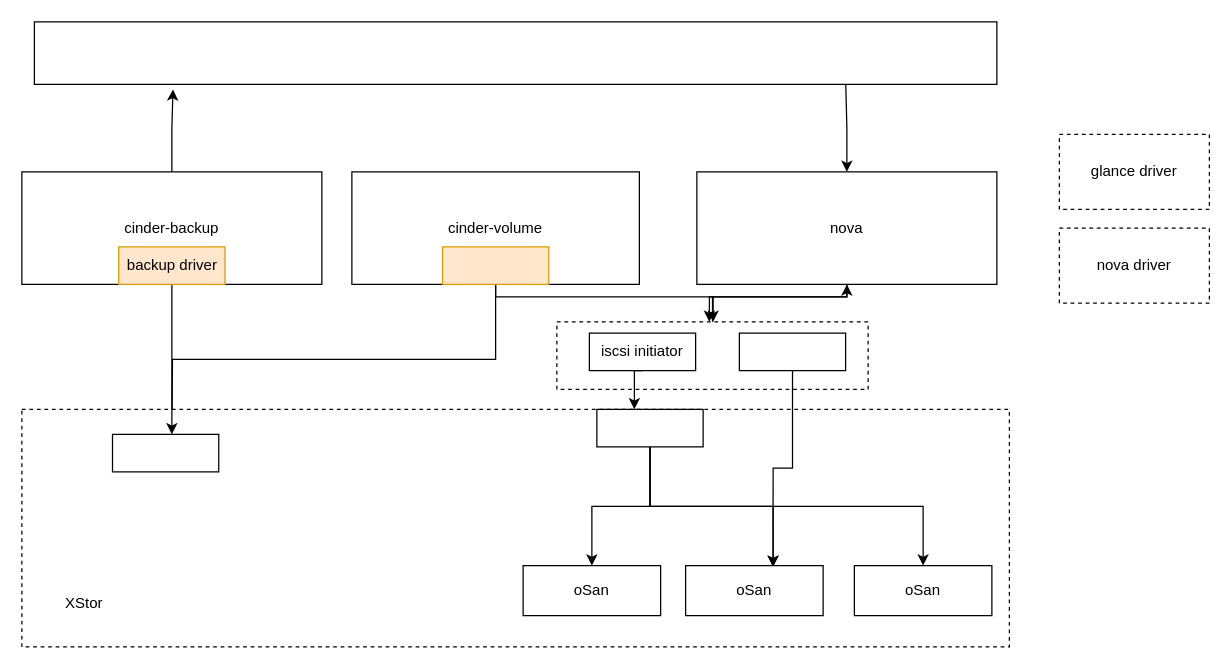
Some shapes in this 1231 by 669 pixel diagram are drawn without their labels. The shapes that lost their labels are listed below. From the top down, each one's centre as x and y in pixels, then its label:
At point 515,52: "DateBase".
At point 495,265: "cinder driver".
At point 792,351: "xclient".
At point 649,427: "iscsi target".
At point 165,452: "oJmgs".
